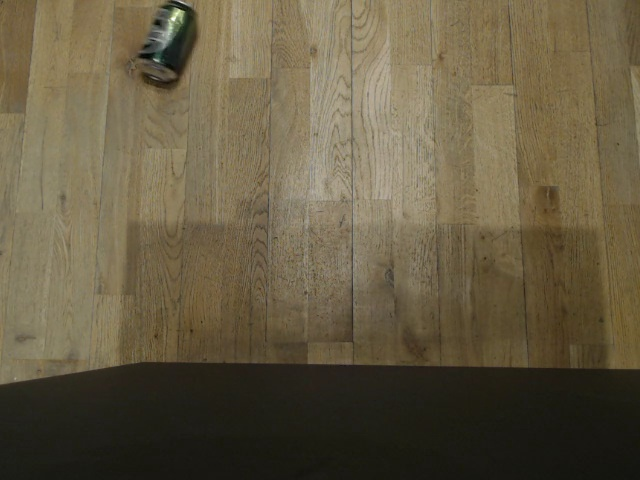beer: (137, 0, 195, 85)
